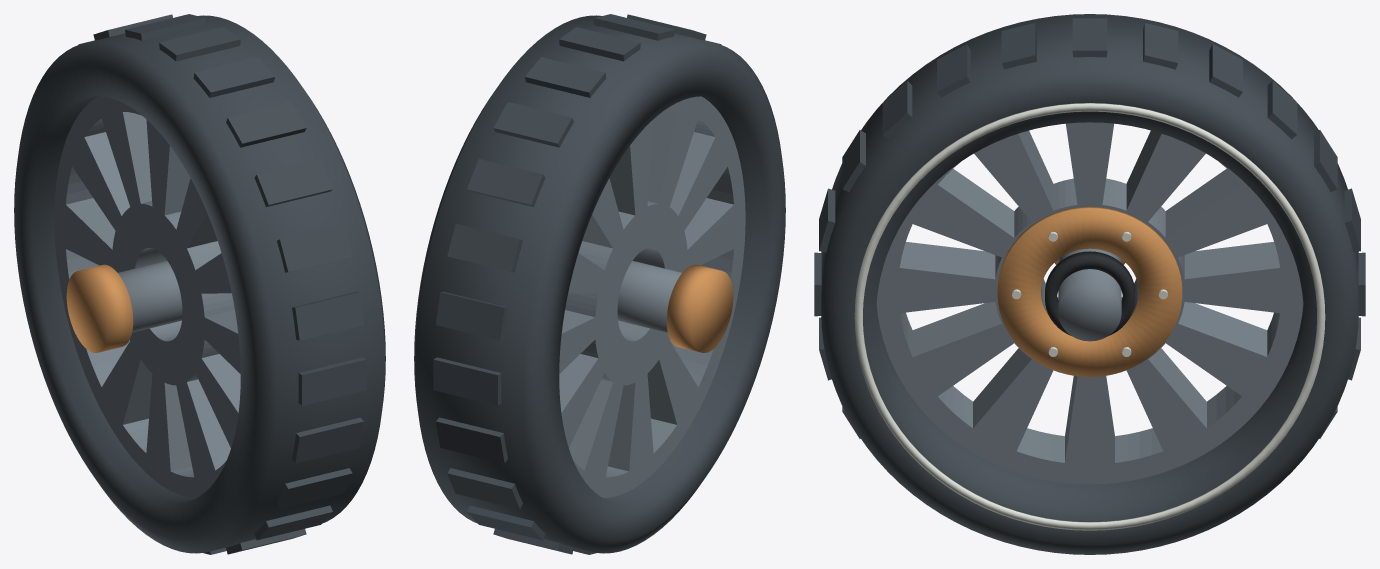
Rendered from M02-004_animated.glb.
The picture shows the model from 3 angles, left to right: view 1: azimuth 30°, elevation 25°; view 2: azimuth 150°, elevation 25°; view 3: azimuth 270°, elevation 25°; orthographic projection. The views are drawn at different scales.
Parts seen in each view (by area): view 1: M02-004_Rolling_hoop_machined_chamfers, M02-004_Perforated_web_12_open_windows, M02-004_Rear_mount_flange, M02-004_Stationary_axle, M02-004_Replaceable_traction_tooth_12, M02-004_Replaceable_traction_tooth_10, M02-004_Replaceable_traction_tooth_11, M02-004_Replaceable_traction_tooth_13, M02-004_Replaceable_traction_tooth_09, M02-004_Replaceable_traction_tooth_14, M02-004_Replaceable_traction_tooth_08, M02-004_Replaceable_traction_tooth_15 (+5 smaller); view 2: M02-004_Rolling_hoop_machined_chamfers, M02-004_Perforated_web_12_open_windows, M02-004_Rear_mount_flange, M02-004_Stationary_axle, M02-004_Replaceable_traction_tooth_02, M02-004_Replaceable_traction_tooth_04, M02-004_Replaceable_traction_tooth_03, M02-004_Replaceable_traction_tooth_01, M02-004_Replaceable_traction_tooth_05, M02-004_Replaceable_traction_tooth_24, M02-004_Replaceable_traction_tooth_06, M02-004_Replaceable_traction_tooth_23 (+5 smaller); view 3: M02-004_Rolling_hoop_machined_chamfers, M02-004_Perforated_web_12_open_windows, M02-004_Hub_forged_annulus, M02-004_Front_machined_rim_inlay, M02-004_Stationary_axle, M02-004_Stationary_dust_seal, M02-004_Replaceable_traction_tooth_07, M02-004_Replaceable_traction_tooth_06, M02-004_Replaceable_traction_tooth_08, M02-004_Replaceable_traction_tooth_05, M02-004_Replaceable_traction_tooth_09, M02-004_Replaceable_traction_tooth_04 (+5 smaller).
Part boxes in pixels (left/top/right/bottom): M02-004_Rolling_hoop_machined_chamfers: left=14, top=15, right=385, bottom=553; M02-004_Perforated_web_12_open_windows: left=54, top=96, right=240, bottom=497; M02-004_Rear_mount_flange: left=66, top=264, right=133, bottom=352; M02-004_Stationary_axle: left=118, top=261, right=182, bottom=332; M02-004_Replaceable_traction_tooth_12: left=292, top=291, right=363, bottom=340; M02-004_Replaceable_traction_tooth_10: left=254, top=159, right=332, bottom=207; M02-004_Replaceable_traction_tooth_11: left=277, top=224, right=352, bottom=272; M02-004_Replaceable_traction_tooth_13: left=298, top=357, right=366, bottom=405; M02-004_Replaceable_traction_tooth_09: left=226, top=102, right=306, bottom=147; M02-004_Replaceable_traction_tooth_14: left=292, top=417, right=363, bottom=463; M02-004_Replaceable_traction_tooth_08: left=193, top=57, right=274, bottom=97; M02-004_Replaceable_traction_tooth_15: left=277, top=468, right=352, bottom=509; M02-004_Rolling_hoop_machined_chamfers: left=414, top=15, right=785, bottom=553; M02-004_Perforated_web_12_open_windows: left=559, top=96, right=745, bottom=497; M02-004_Rear_mount_flange: left=666, top=264, right=733, bottom=352; M02-004_Stationary_axle: left=617, top=261, right=681, bottom=332; M02-004_Replaceable_traction_tooth_02: left=436, top=291, right=507, bottom=340; M02-004_Replaceable_traction_tooth_04: left=467, top=159, right=545, bottom=207; M02-004_Replaceable_traction_tooth_03: left=447, top=224, right=522, bottom=272; M02-004_Replaceable_traction_tooth_01: left=433, top=357, right=501, bottom=405; M02-004_Replaceable_traction_tooth_05: left=493, top=102, right=573, bottom=147; M02-004_Replaceable_traction_tooth_24: left=436, top=417, right=507, bottom=463; M02-004_Replaceable_traction_tooth_06: left=525, top=57, right=606, bottom=97; M02-004_Replaceable_traction_tooth_23: left=447, top=468, right=522, bottom=509; M02-004_Rolling_hoop_machined_chamfers: left=821, top=14, right=1358, bottom=554; M02-004_Perforated_web_12_open_windows: left=876, top=122, right=1303, bottom=484; M02-004_Hub_forged_annulus: left=997, top=206, right=1182, bottom=376; M02-004_Front_machined_rim_inlay: left=854, top=103, right=1325, bottom=530; M02-004_Stationary_axle: left=1058, top=248, right=1121, bottom=341; M02-004_Stationary_dust_seal: left=1045, top=251, right=1134, bottom=335; M02-004_Replaceable_traction_tooth_07: left=1072, top=18, right=1107, bottom=57; M02-004_Replaceable_traction_tooth_06: left=1143, top=23, right=1178, bottom=69; M02-004_Replaceable_traction_tooth_08: left=1001, top=23, right=1036, bottom=69; M02-004_Replaceable_traction_tooth_05: left=1209, top=44, right=1242, bottom=97; M02-004_Replaceable_traction_tooth_09: left=937, top=44, right=970, bottom=97; M02-004_Replaceable_traction_tooth_04: left=1267, top=80, right=1297, bottom=139.
Bounding box in the file's own units: 0.365 × 0.9541 × 0.9541.
